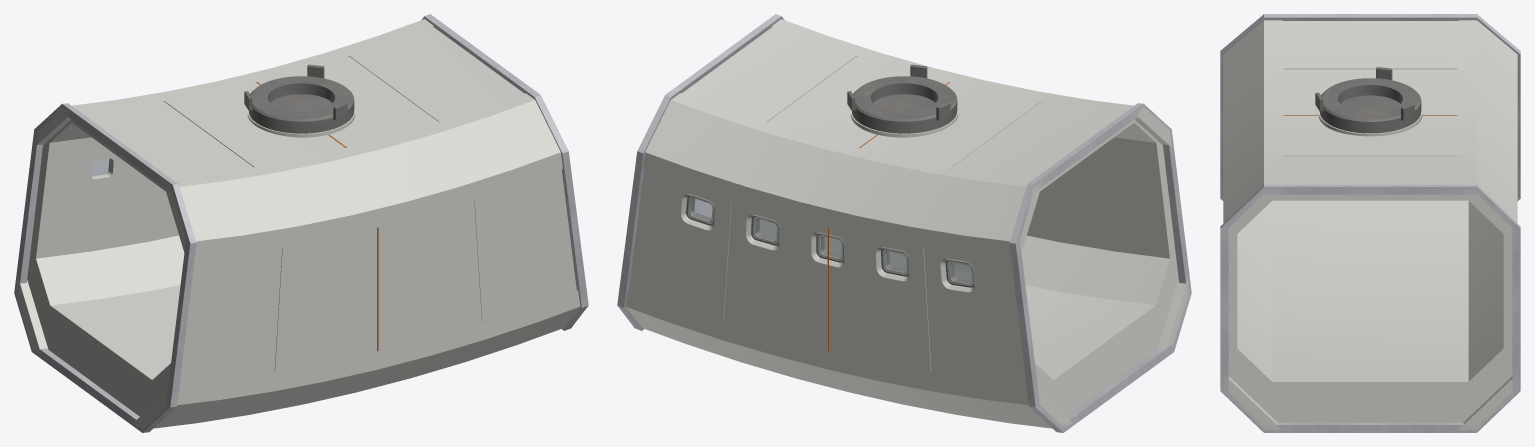
The model's file is ax_grav_07_ring_greenhouse.glb.
3 renders of one model, left to right at view 1: azimuth 30°, elevation 25°; view 2: azimuth 150°, elevation 25°; view 3: azimuth 270°, elevation 25°, orthographic. The views are drawn at different scales.
Visible parts, largest first — view 1: hull, end_flanges, spoke_port, hatch_door_1, spoke_port_petals; view 2: hull, end_flanges, spoke_port, window_glass, hatch_door_1, window_frames, spoke_port_petals; view 3: hull, end_flanges, spoke_port, hatch_door_1, spoke_port_petals, spoke_port_pedestal.
Boxes of the visible parts, x1,y1,x2,y2 form: hull: (16,19,580,429); end_flanges: (14,14,588,432); spoke_port: (249,76,354,133); hatch_door_1: (270,94,332,111); spoke_port_petals: (244,64,347,120); hull: (625,19,1189,428); end_flanges: (617,14,1191,432); spoke_port: (852,76,957,133); window_glass: (689,196,971,283); hatch_door_1: (873,94,935,111); window_frames: (686,195,973,287); spoke_port_petals: (847,64,950,120); hull: (1223,20,1517,429); end_flanges: (1220,14,1520,432); spoke_port: (1319,78,1421,133); hatch_door_1: (1341,95,1399,112); spoke_port_petals: (1315,67,1414,120); spoke_port_pedestal: (1318,108,1422,136).
Size of the model in its own units: 7.52 by 4.41 by 4.74.
5 materials, 2 textured.
